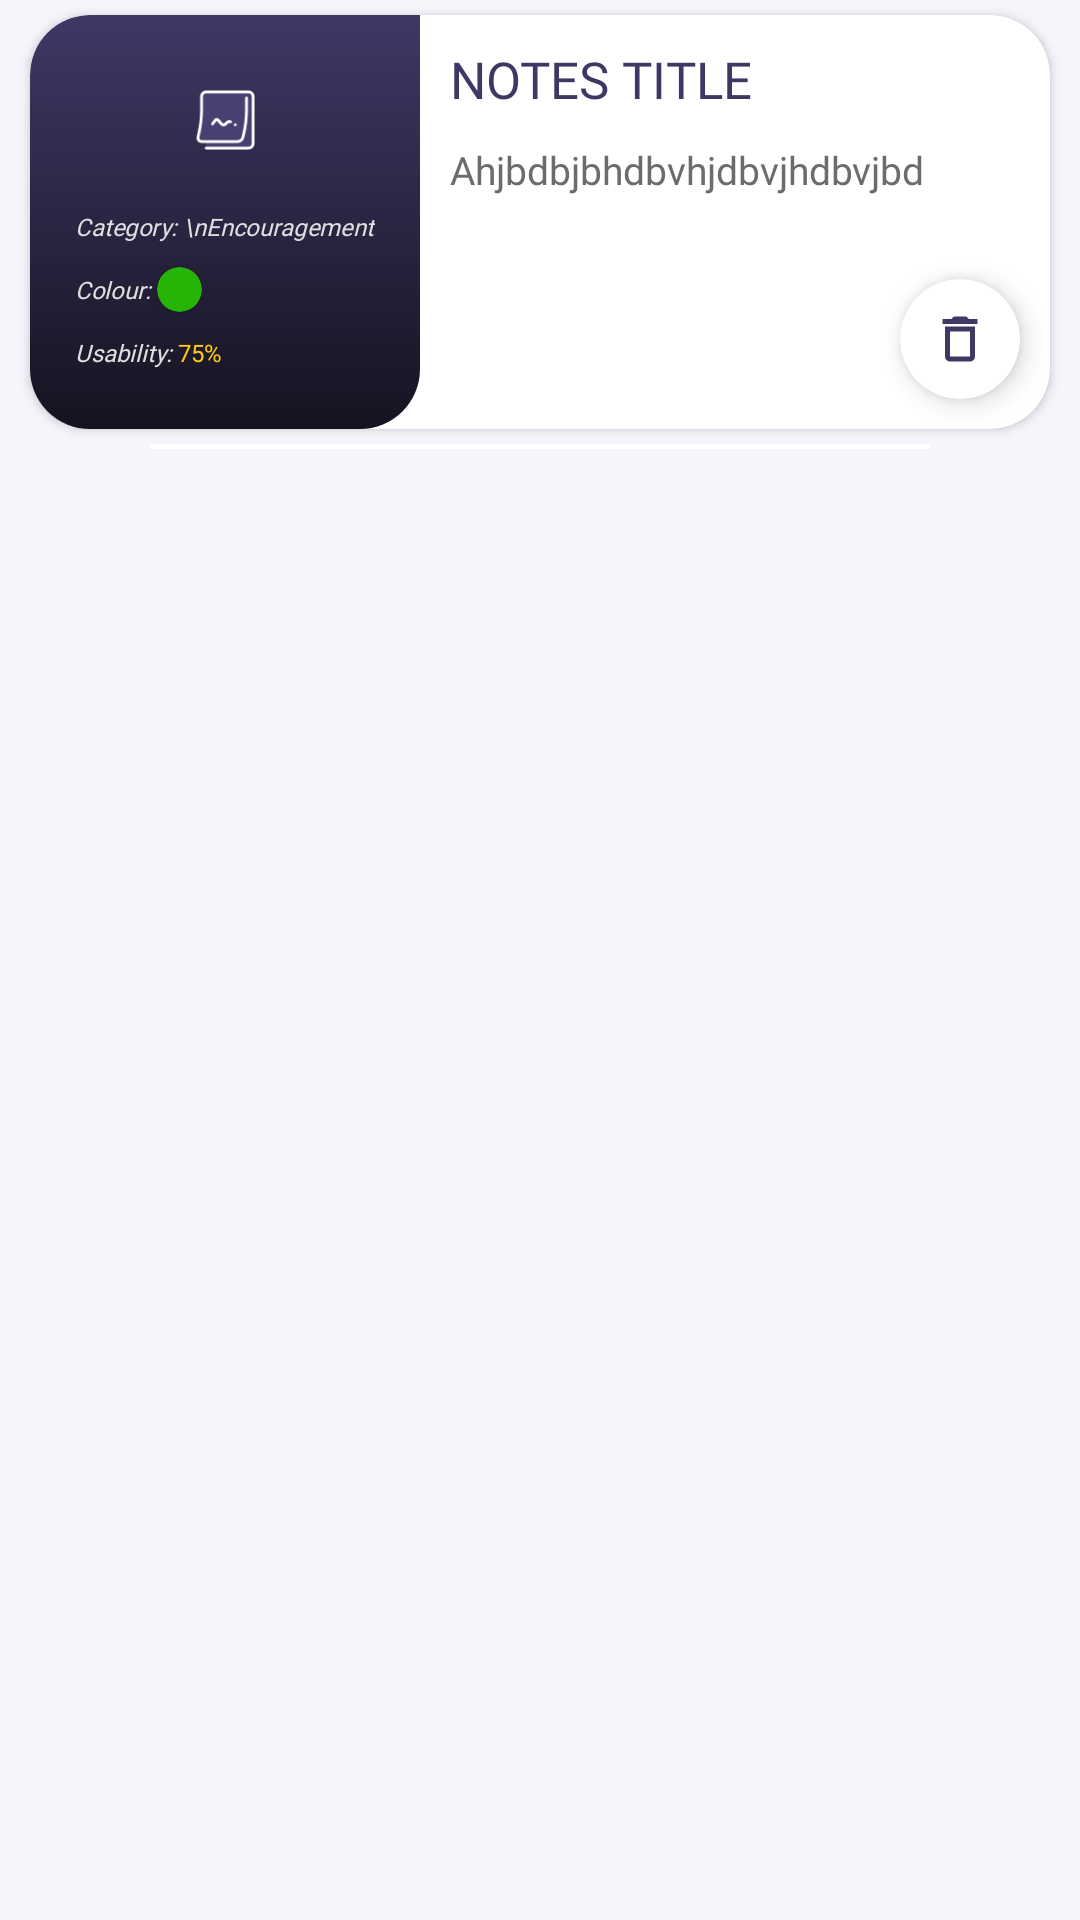

Locate icon controls on the screen. Image size 1080w x 1920h, boxes as (x1, y1, x2, y2).
delete: (942, 316, 978, 362)
noteicon: (196, 90, 255, 150)
